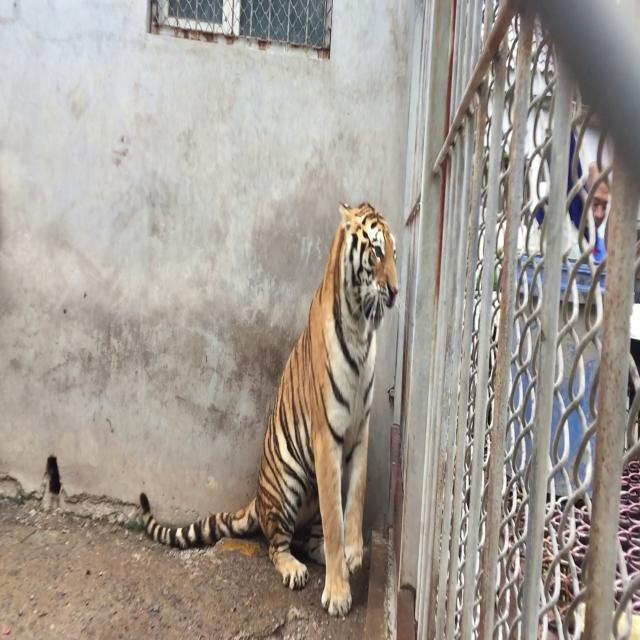Tiger: (119, 129, 408, 622)
